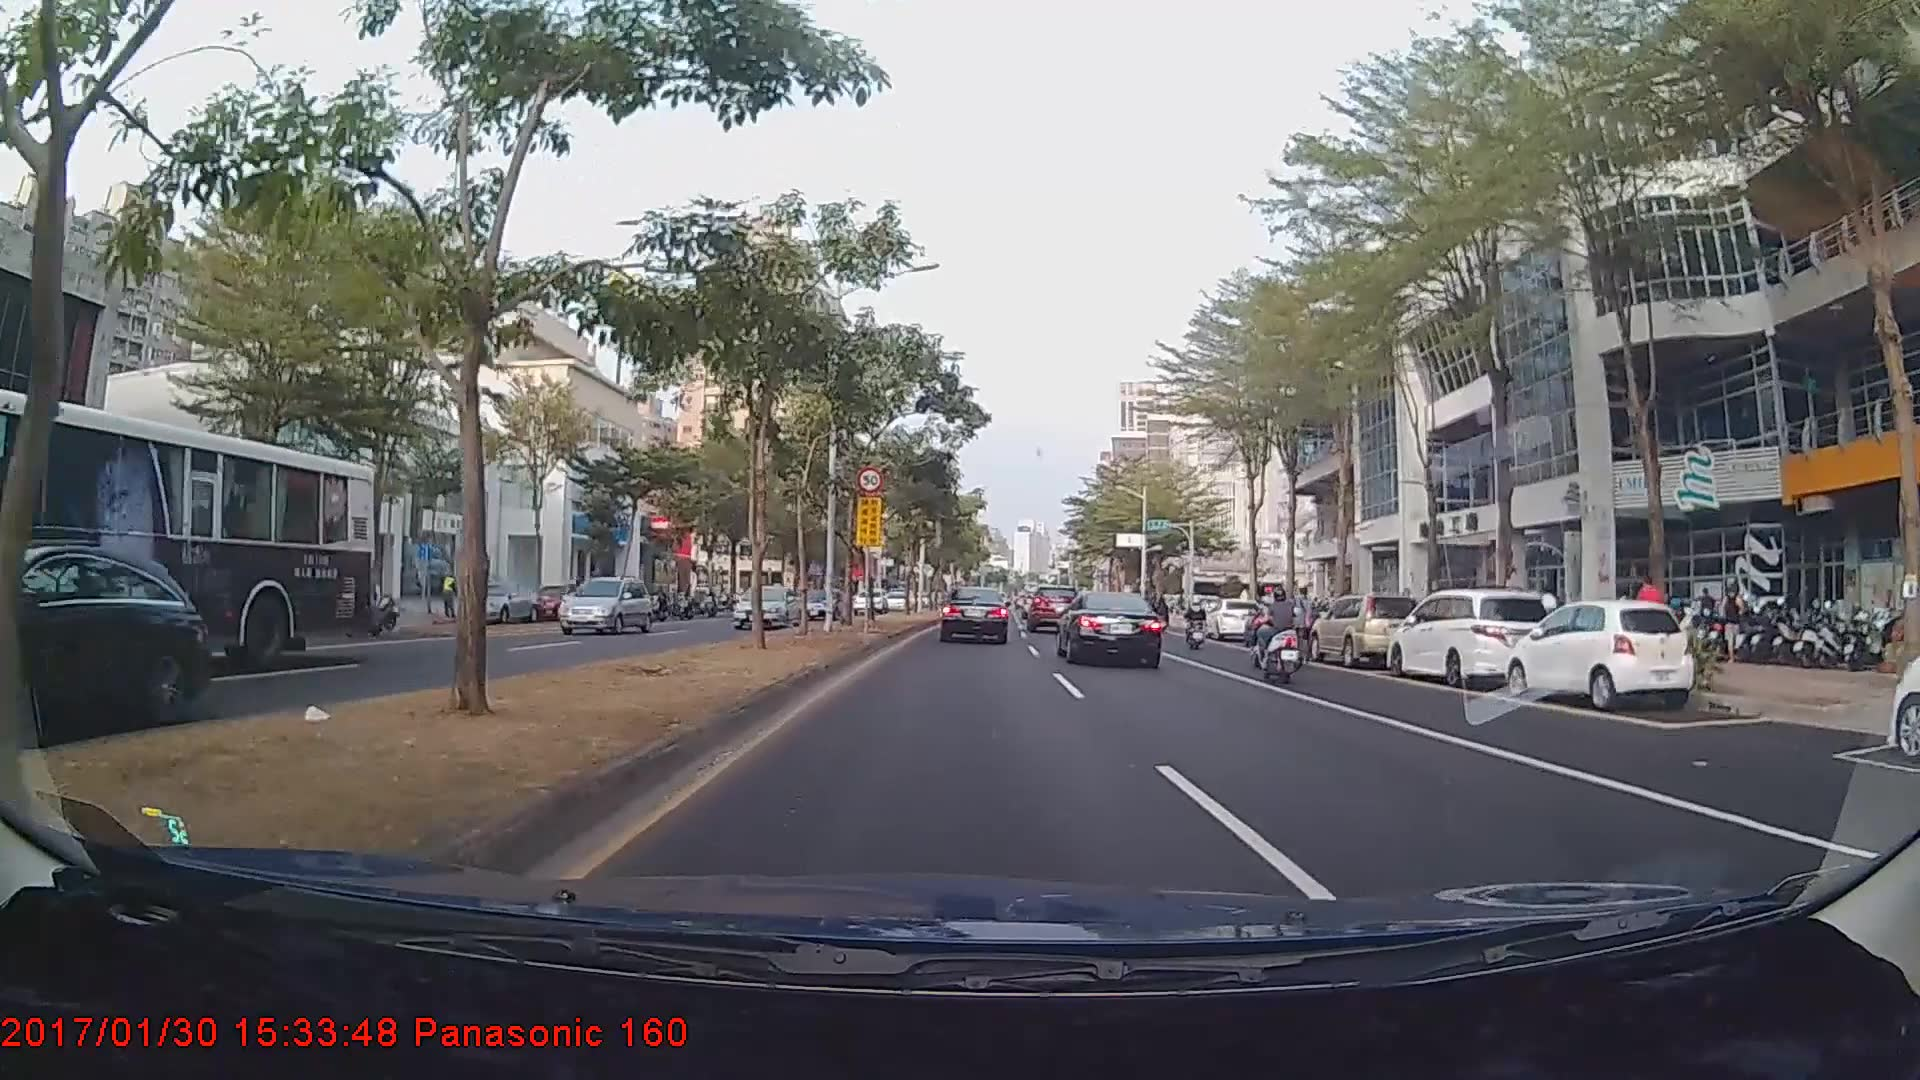rider: (1247, 582, 1317, 680), (1179, 591, 1211, 647)
vehicle: (0, 384, 377, 682), (0, 543, 207, 742), (1502, 597, 1696, 707), (1387, 587, 1554, 690), (1055, 587, 1166, 670), (1309, 591, 1423, 667), (553, 576, 652, 634), (938, 584, 1010, 644), (455, 577, 536, 624), (730, 581, 798, 627), (1205, 595, 1262, 641), (1026, 585, 1078, 631), (530, 583, 584, 621), (798, 585, 845, 618), (851, 587, 887, 613)
